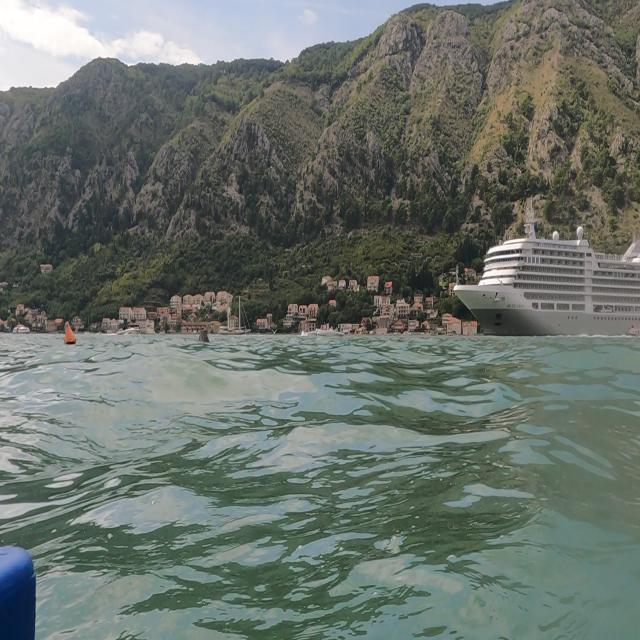boat: (451, 206, 639, 340)
buoy: (59, 316, 82, 354), (196, 323, 217, 351)
